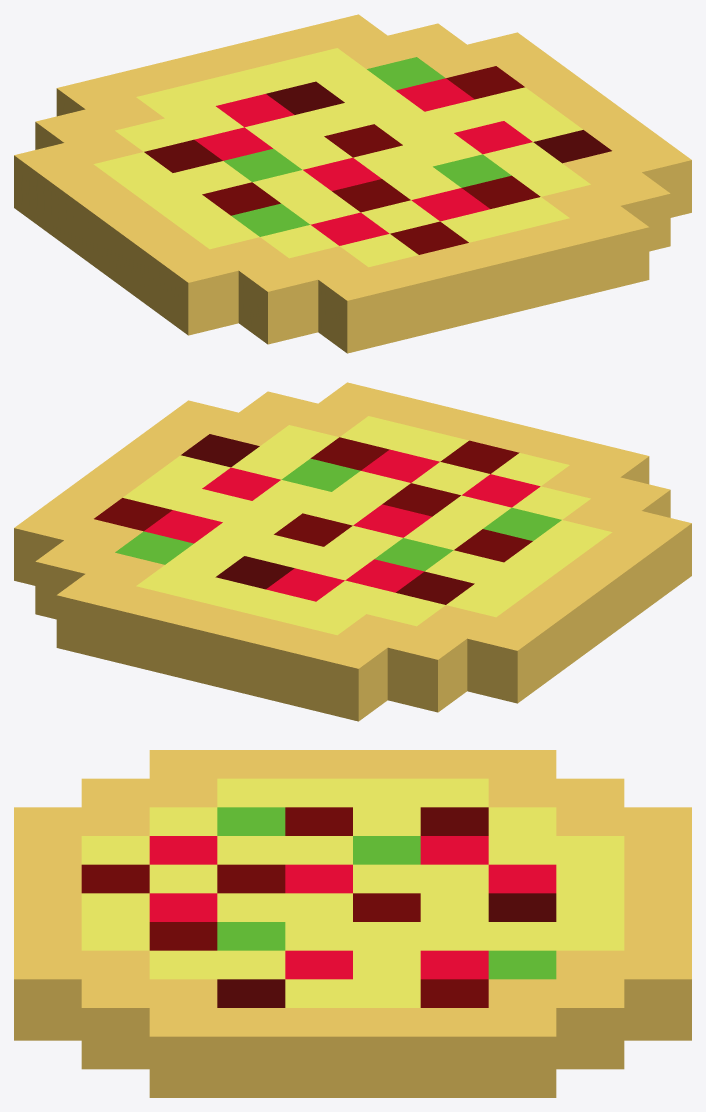
The model's file is pizza.obj.
3 views of the same model, one above another, from view 1: azimuth 30°, elevation 25°; view 2: azimuth 150°, elevation 25°; view 3: azimuth 270°, elevation 25° (orthographic). The views are drawn at different scales.
Size of the model in its own units: 10 by 1 by 10.
Materials: 1 (1 with a texture image).
